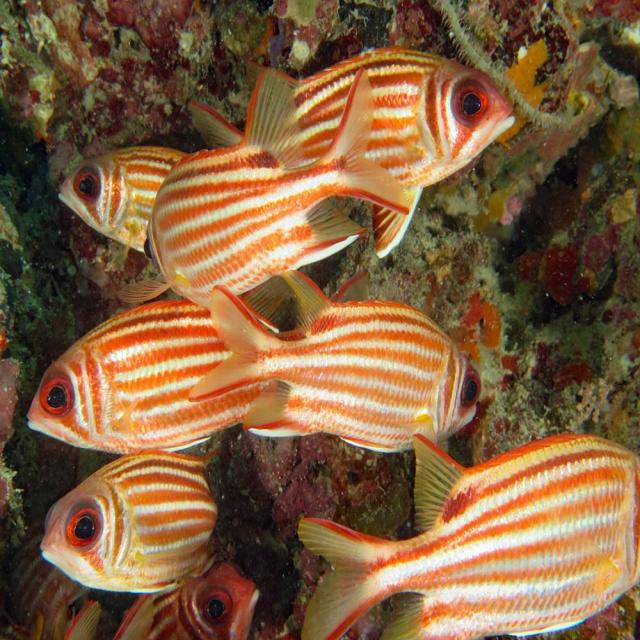Asker Baligi: (296, 430, 638, 638), (186, 266, 483, 455), (22, 312, 276, 454), (228, 46, 503, 171), (32, 468, 238, 572)
